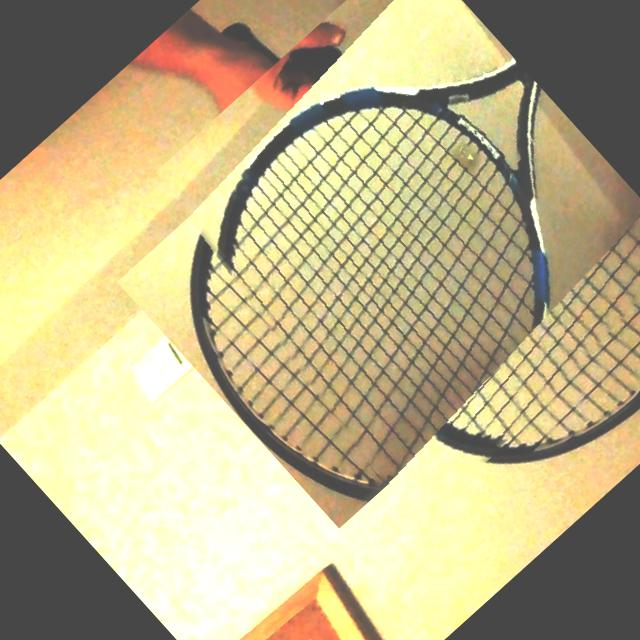TennisRacket: (120, 0, 640, 532)
